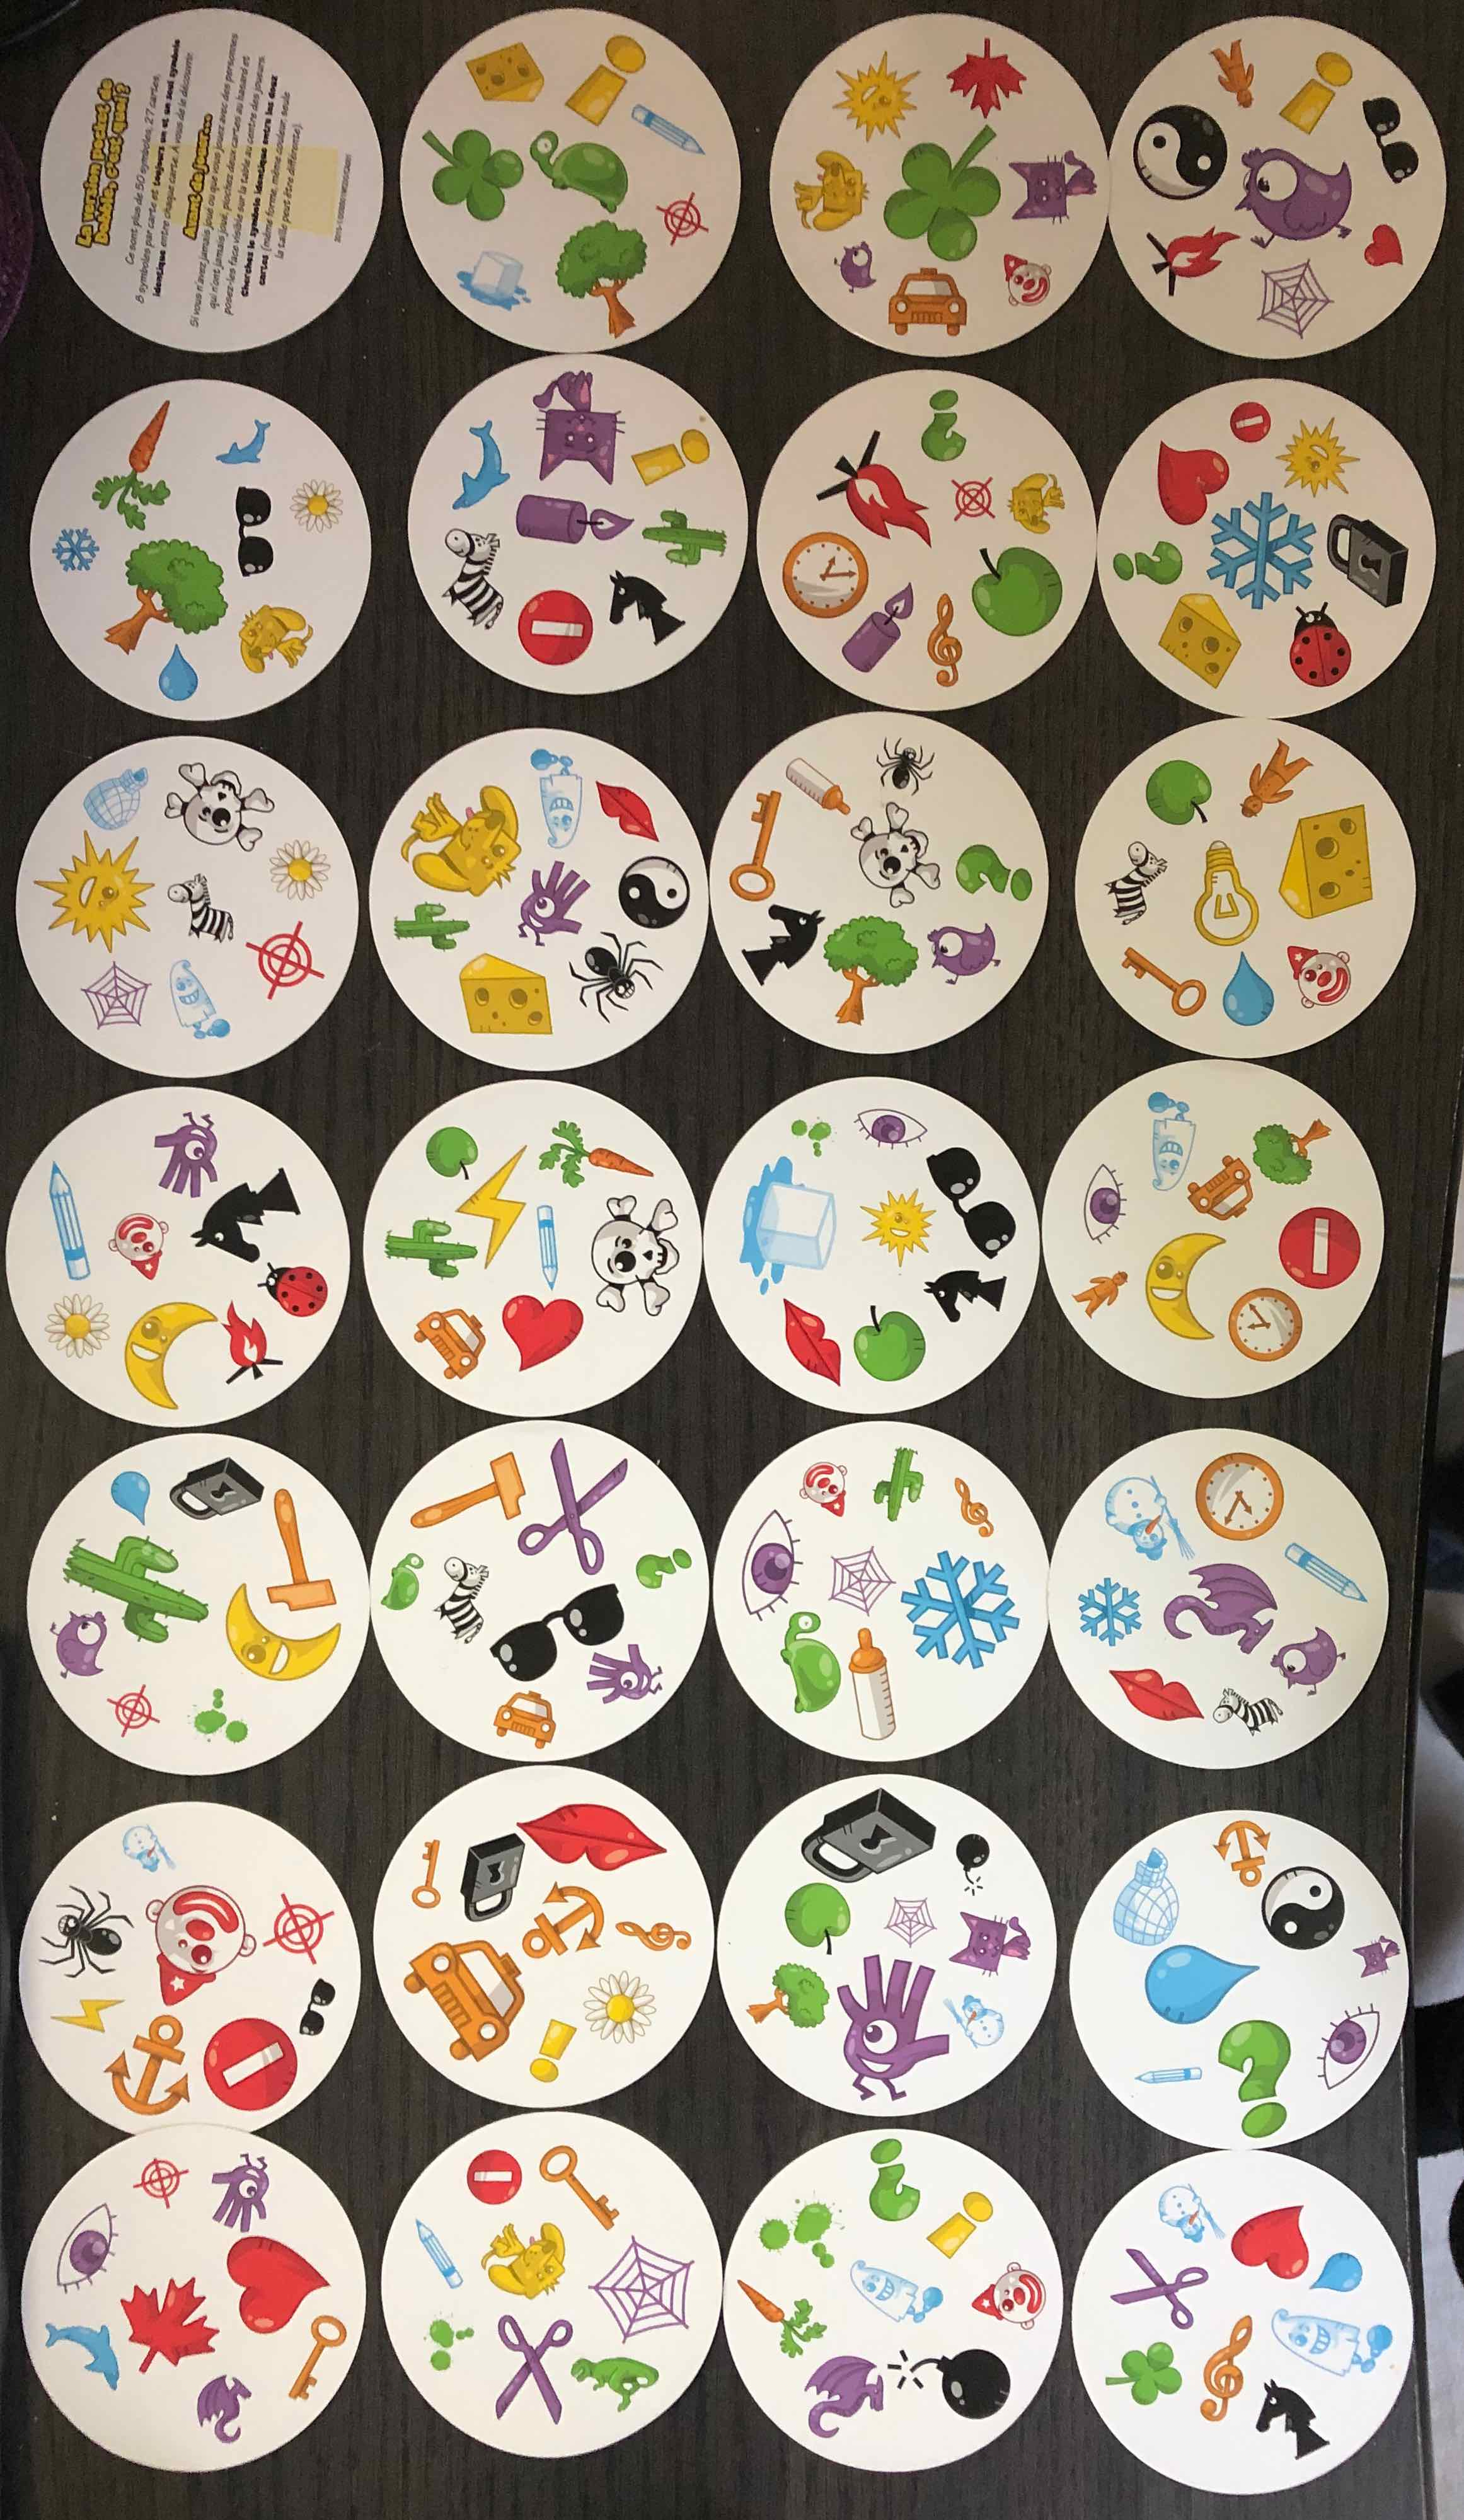ancre: (1140, 1183, 1251, 1321), (1244, 1201, 1370, 1323)
arbre: (959, 488, 1060, 622)
chien: (38, 814, 152, 959), (1265, 837, 1384, 964), (959, 488, 1060, 622), (413, 798, 519, 910), (802, 146, 892, 277), (857, 1169, 931, 1277)
coeur: (228, 2231, 340, 2363)
dooble: (577, 2241, 694, 2367)
flocon: (899, 1542, 1016, 1680), (741, 1168, 835, 1319)
oiseau: (939, 1884, 1027, 2006)
sens_interdit: (112, 2262, 216, 2375), (1086, 1574, 1194, 1682), (514, 601, 605, 699)
